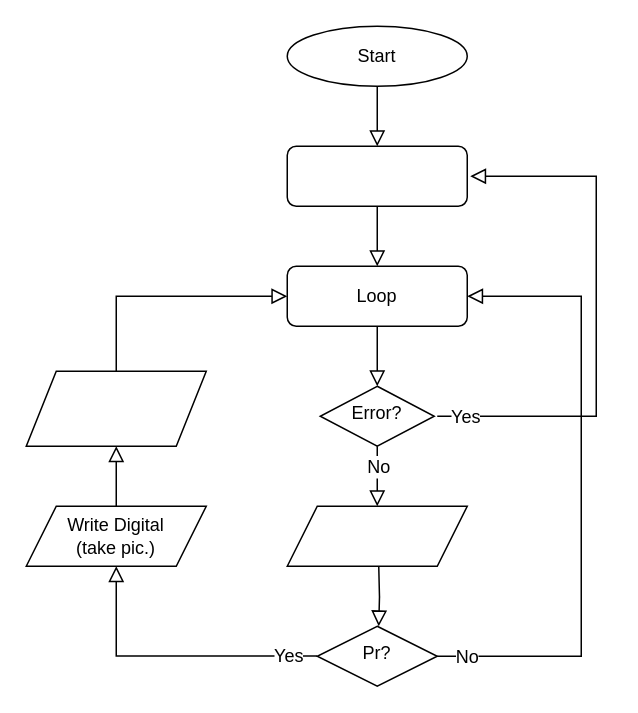
This 638x713 diagram has some shape labels left out. Each missing label, with the box of its shape:
Read Wi-Fi: (286, 505, 467, 566)
Setup: (286, 145, 467, 206)
Write Wi-Fi (send pic. CommCenter): (25, 370, 206, 446)
